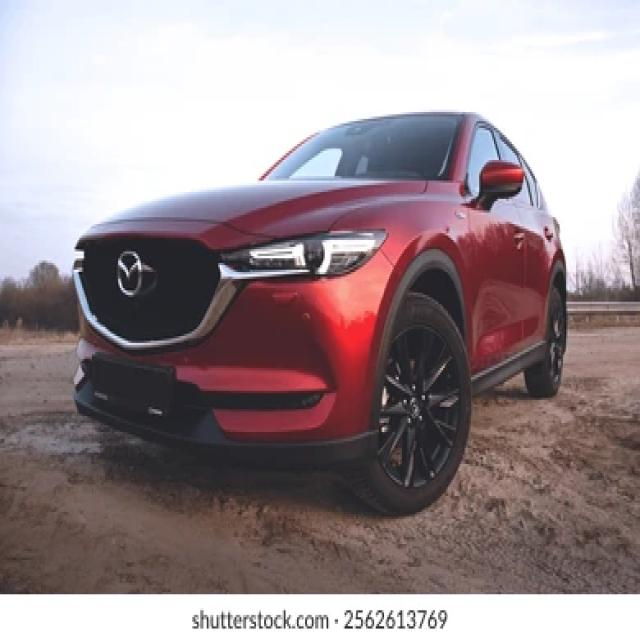mazda: (115, 247, 145, 299)
